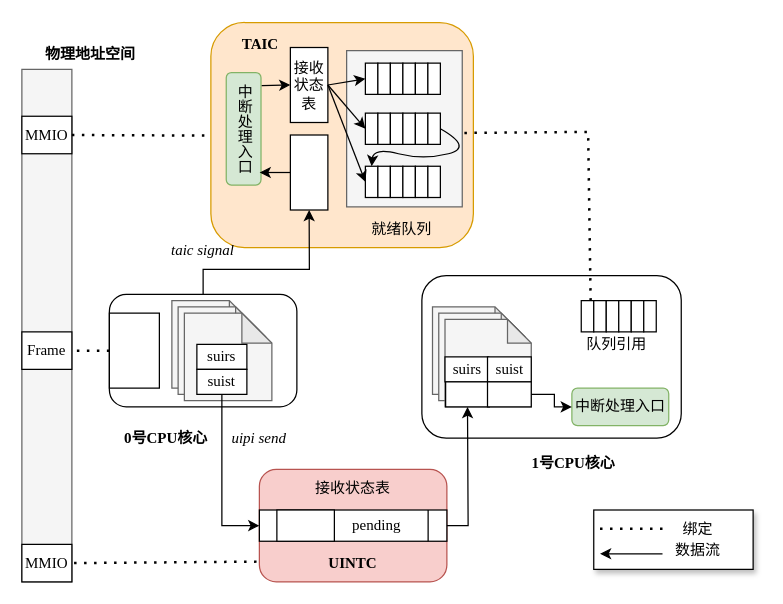
Some shapes in this 783 by 604 pixel diagram are drawn without their labels. The centre of each missing label's shape, as x and y in pixels:
"hartid" goes at [305,525].
"uip" goes at [466,394].
"utvec" goes at [508,394].
"发送状态标" goes at [308,172].
"发送状态表" goes at [133,350].
